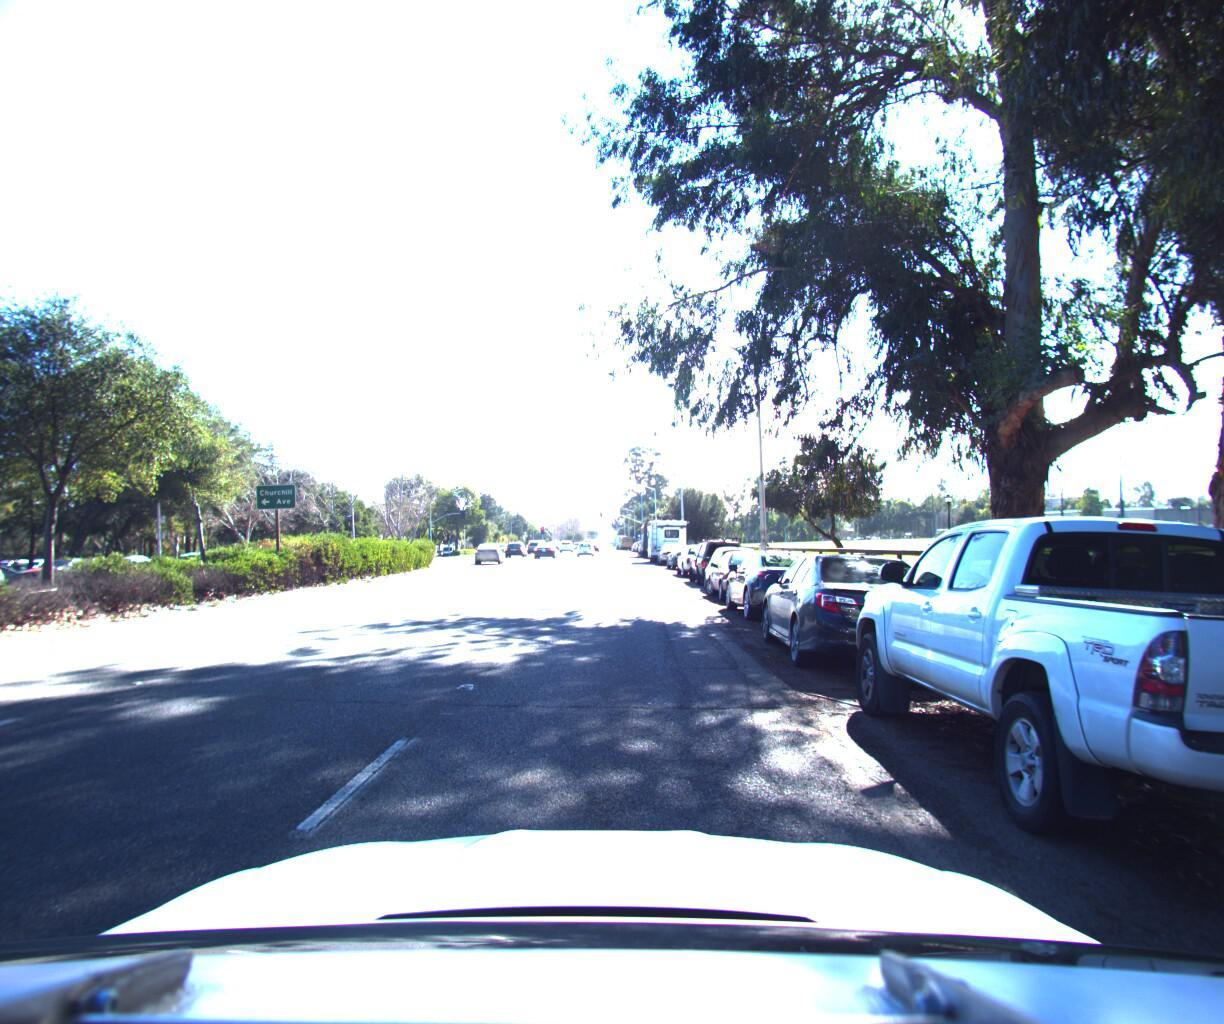bus: (639, 509, 674, 550)
car: (825, 497, 1224, 963), (754, 539, 963, 688), (719, 540, 850, 625), (703, 541, 789, 602), (684, 525, 750, 582), (699, 538, 768, 587), (675, 535, 727, 573), (657, 534, 689, 558), (473, 533, 503, 556), (0, 551, 15, 598), (531, 531, 556, 550), (504, 533, 530, 550), (576, 531, 595, 548)
other_vehicle: (646, 506, 691, 555)
